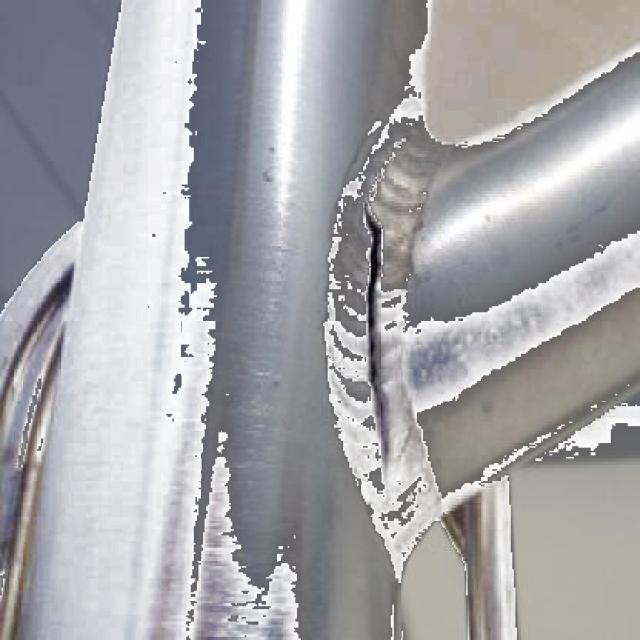crack: (362, 205, 387, 473)
